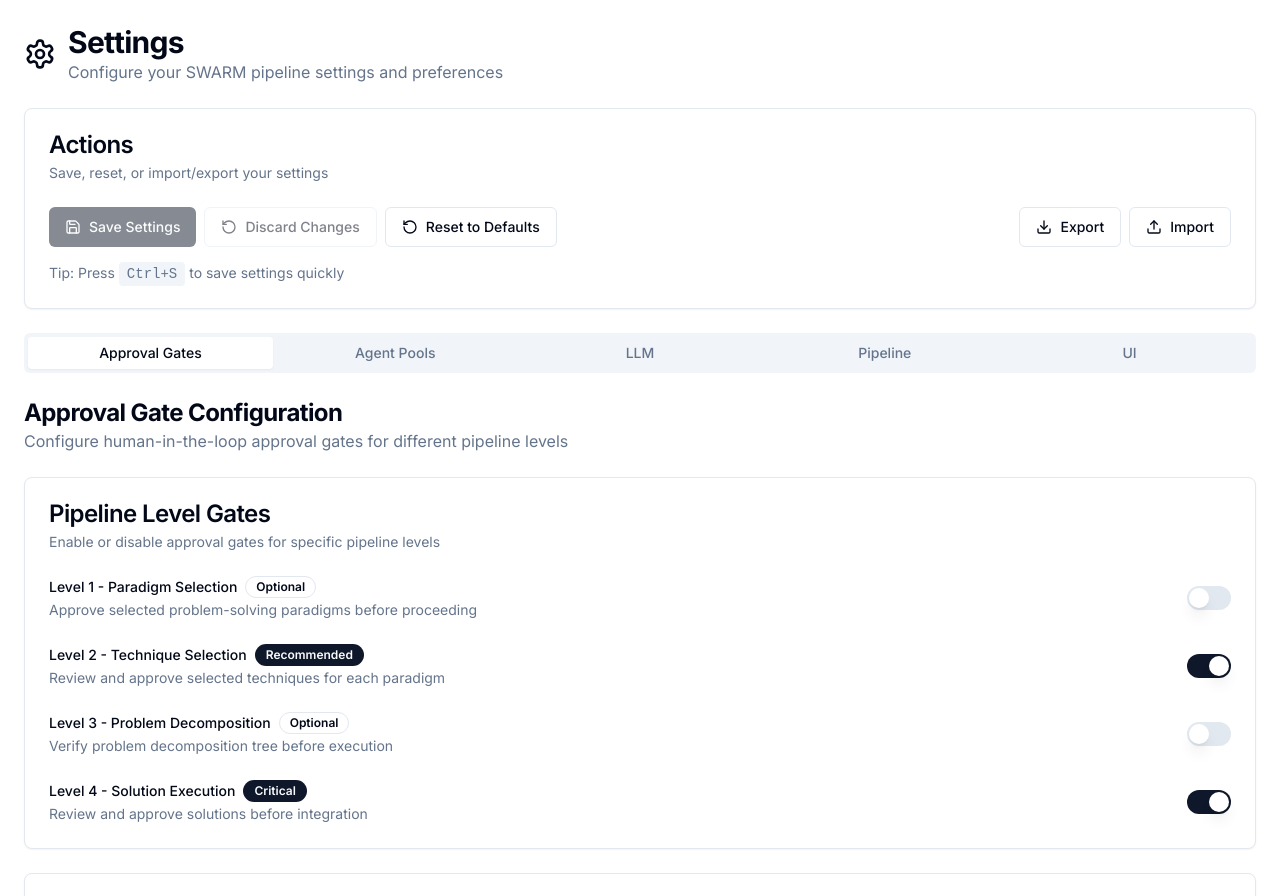
Test: SettingsPanel › SettingsPanel Component › exports settings as JSON
What coordinates should you click on to do the following:
click the button "Export"
I would click on:
 (1070, 227)
Its box is [1019, 207, 1121, 247].
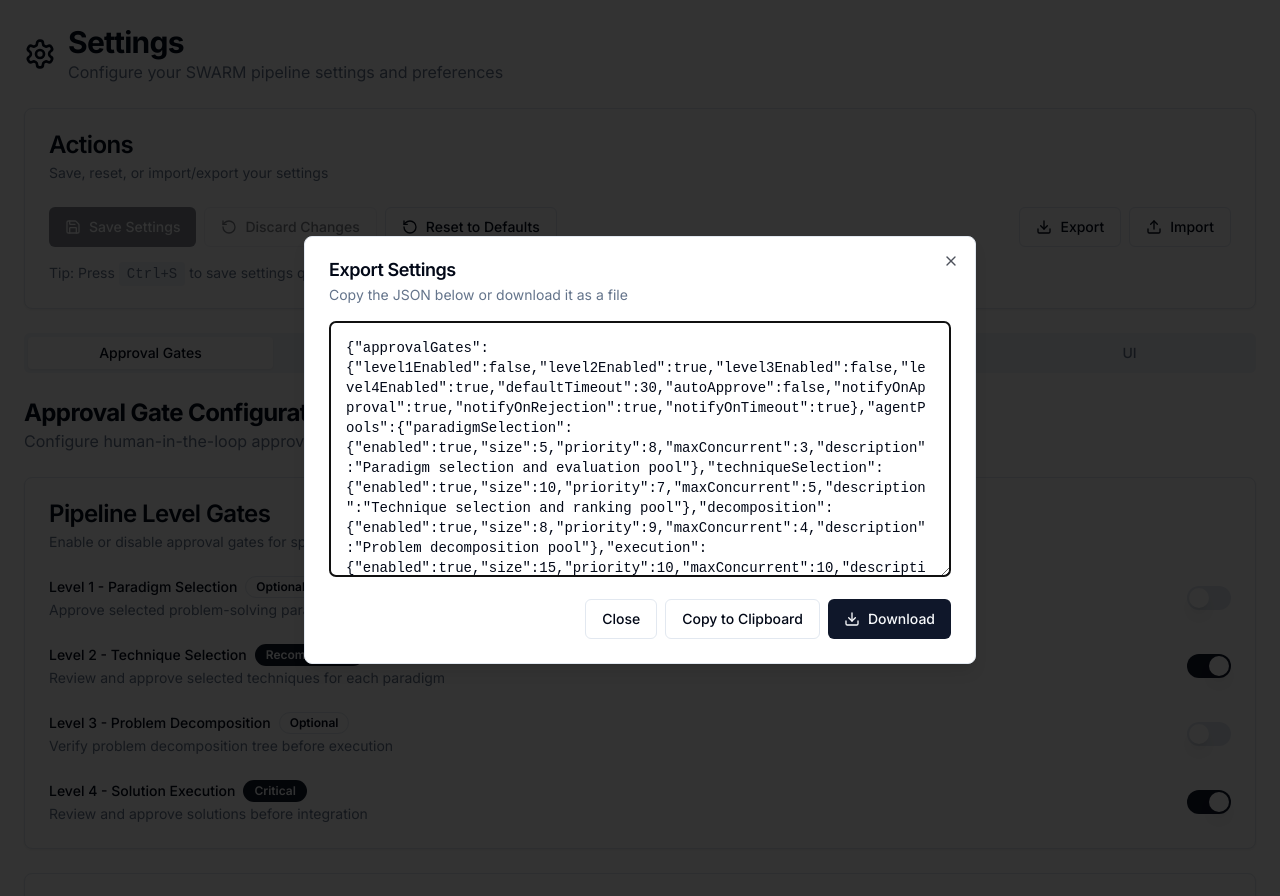
Check: the heading "Export Settings" is shown, box [329, 259, 456, 280]
